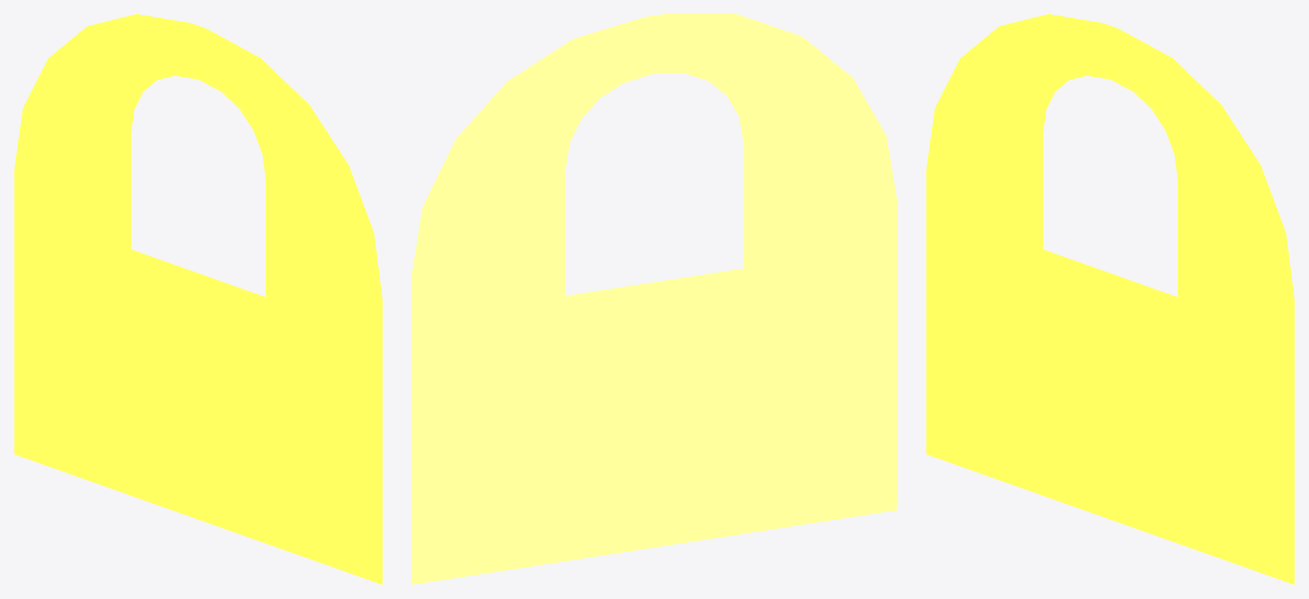
The model's file is Islands.fbx.
The picture shows the model from 3 angles, left to right: view 1: azimuth 90°, elevation 25°; view 2: azimuth 150°, elevation 25°; view 3: azimuth 270°, elevation 25°; orthographic projection. The views are drawn at different scales.
Visible parts, largest first — view 1: Gate; view 2: Gate; view 3: Gate.
Part boxes in pixels (bbox=[...]): Gate: bbox=[14, 14, 382, 584]; Gate: bbox=[411, 14, 897, 584]; Gate: bbox=[926, 14, 1294, 584].
Bounding box in the file's own units: 48.21 × 85 × 57.45.
